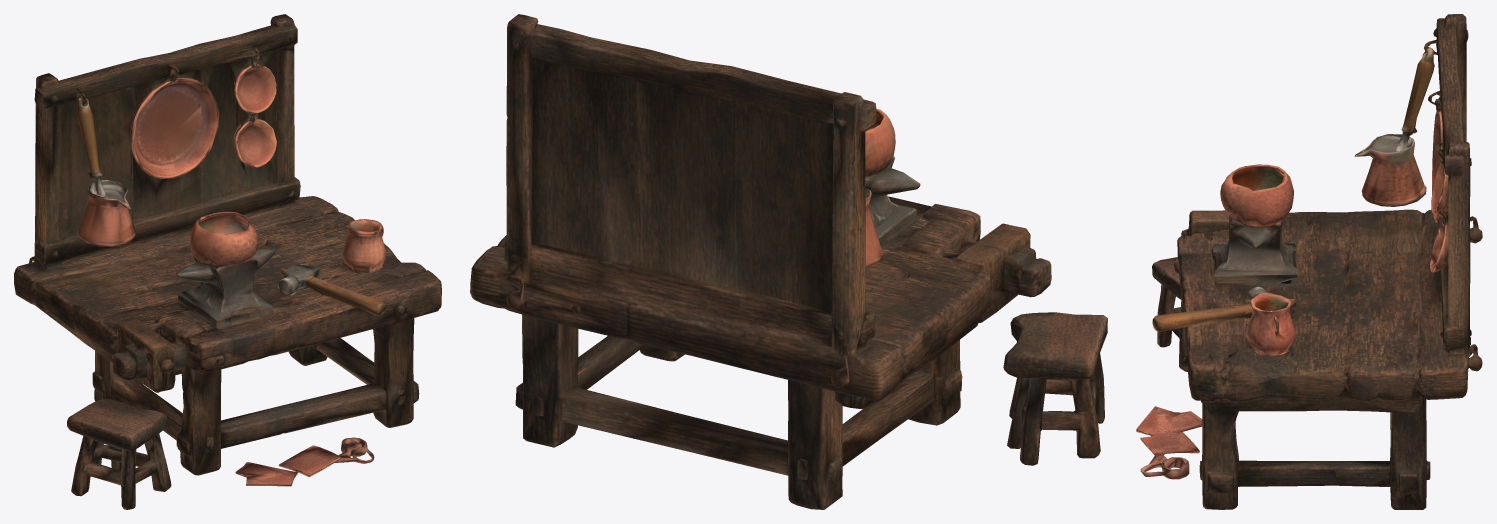
The model's file is city_gaziantep_coppersmith_workbench.glb.
3 views of the same model, side by side, from view 1: azimuth 30°, elevation 25°; view 2: azimuth 150°, elevation 25°; view 3: azimuth 270°, elevation 25° (orthographic). The views are drawn at different scales.
Parts seen in each view (by area): view 1: Mesh1.0; view 2: Mesh1.0; view 3: Mesh1.0.
Boxes of the visible parts, x1=… form: Mesh1.0: x1=14, y1=14, x2=441, y2=509; Mesh1.0: x1=470, y1=14, x2=1107, y2=509; Mesh1.0: x1=1136, y1=14, x2=1482, y2=509.
Bounding box in the file's own units: 2.18 × 1.9 × 1.65.
1 material, 1 textured.
